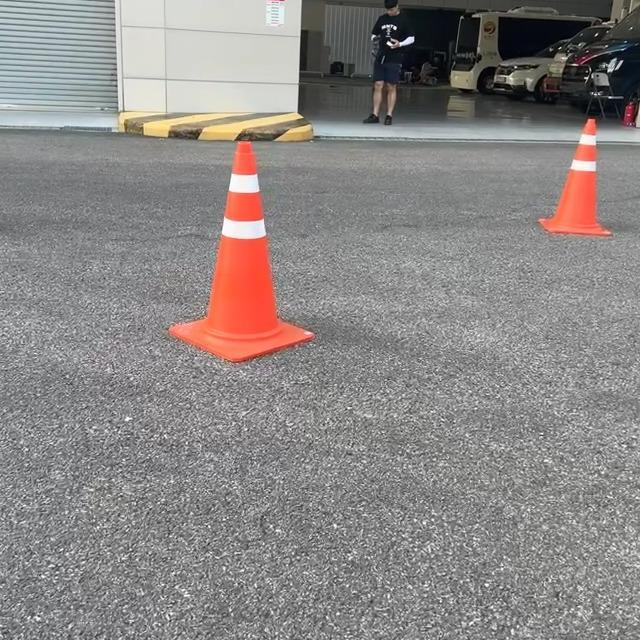fallen_object: (175, 125, 331, 347), (502, 107, 594, 237)
